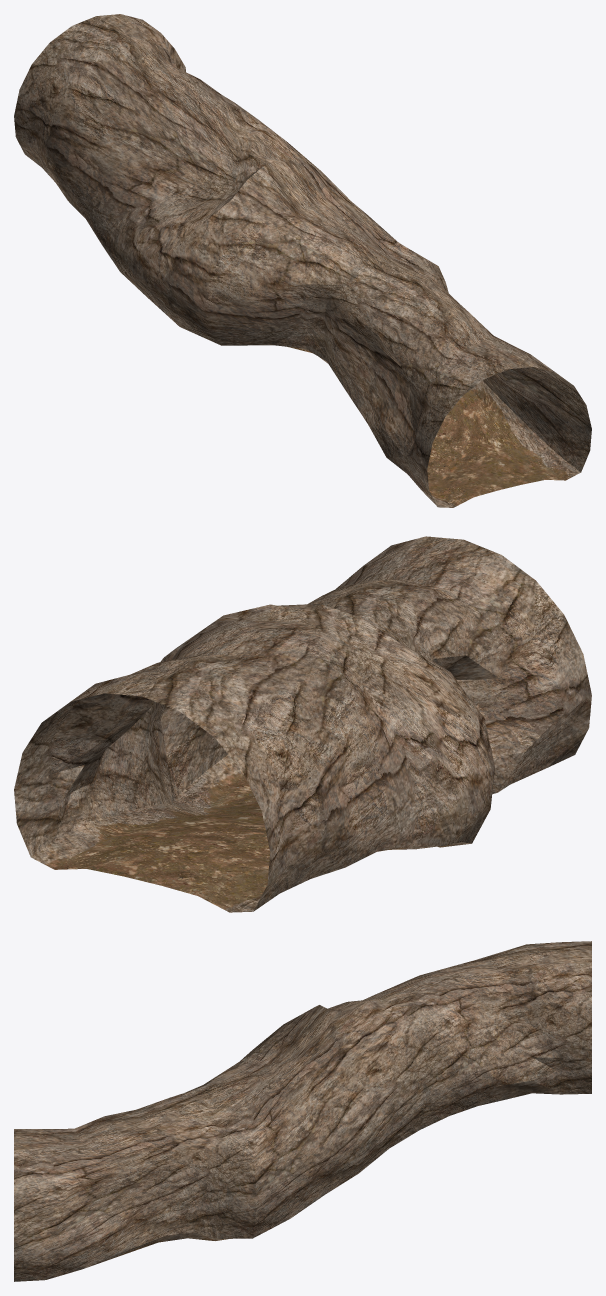
Rendered from CaveCorridorStraightUp.obj.
3 renders of one model, top to bottom at view 1: azimuth 30°, elevation 25°; view 2: azimuth 150°, elevation 25°; view 3: azimuth 270°, elevation 25°, orthographic. The views are drawn at different scales.
Parts seen in each view (by area): view 1: CaveCorridorStraightUp; view 2: CaveCorridorStraightUp; view 3: CaveCorridorStraightUp.
Part boxes in pixels (box(x1,y1,x2,y2)): CaveCorridorStraightUp: box(14, 14, 591, 507); CaveCorridorStraightUp: box(14, 536, 591, 912); CaveCorridorStraightUp: box(14, 941, 591, 1281).
Bounding box in the file's own units: 5.32 × 5.12 × 10.4.
